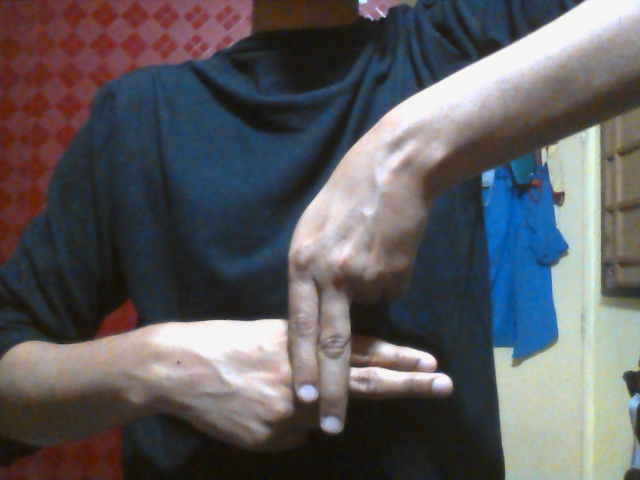F: (166, 166, 454, 456)
